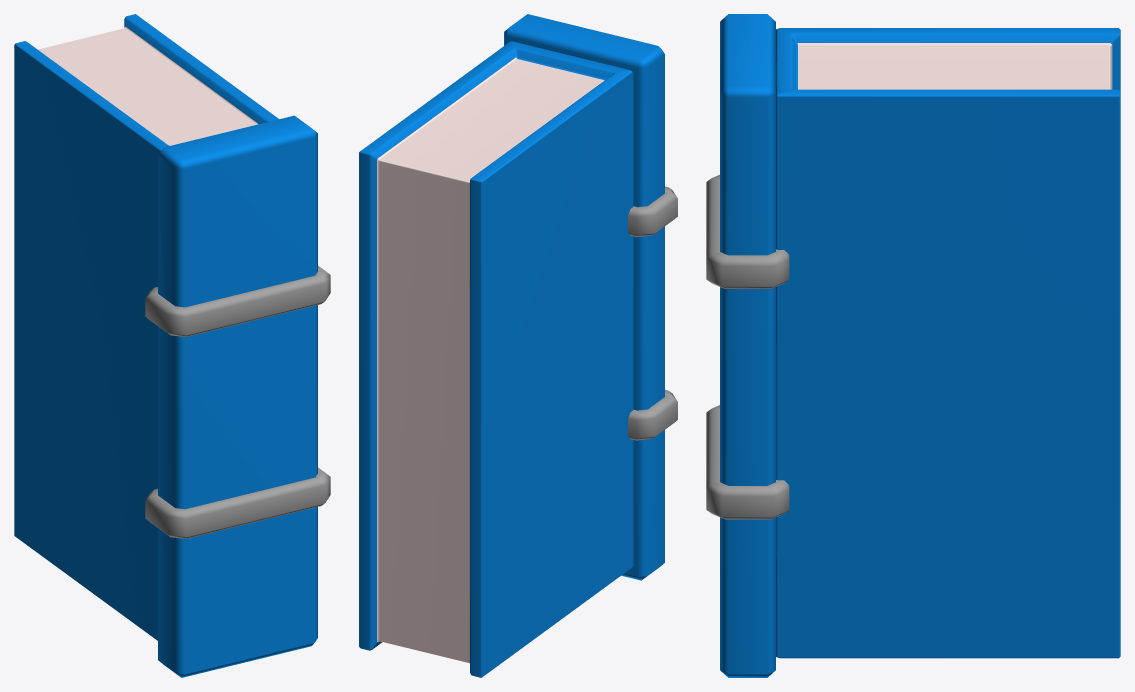
File: Public_2_Book_1.glb
3 renders of one model, left to right at view 1: azimuth 30°, elevation 25°; view 2: azimuth 150°, elevation 25°; view 3: azimuth 270°, elevation 25°, orthographic. The views are drawn at different scales.
Parts seen in each view (by area): view 1: Public_2_Book_1; view 2: Public_2_Book_1; view 3: Public_2_Book_1.
Part boxes in pixels (x1,y1,x2,y2): Public_2_Book_1: [14, 14, 330, 677]; Public_2_Book_1: [359, 14, 677, 677]; Public_2_Book_1: [706, 14, 1120, 677].
Bounding box in the file's own units: 0.7465 × 2.26 × 1.44.
1 material, 1 textured.
